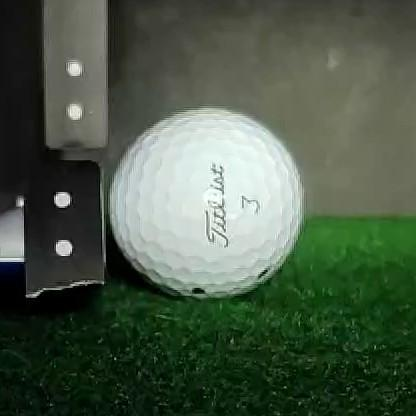golfball: (108, 108, 305, 299)
